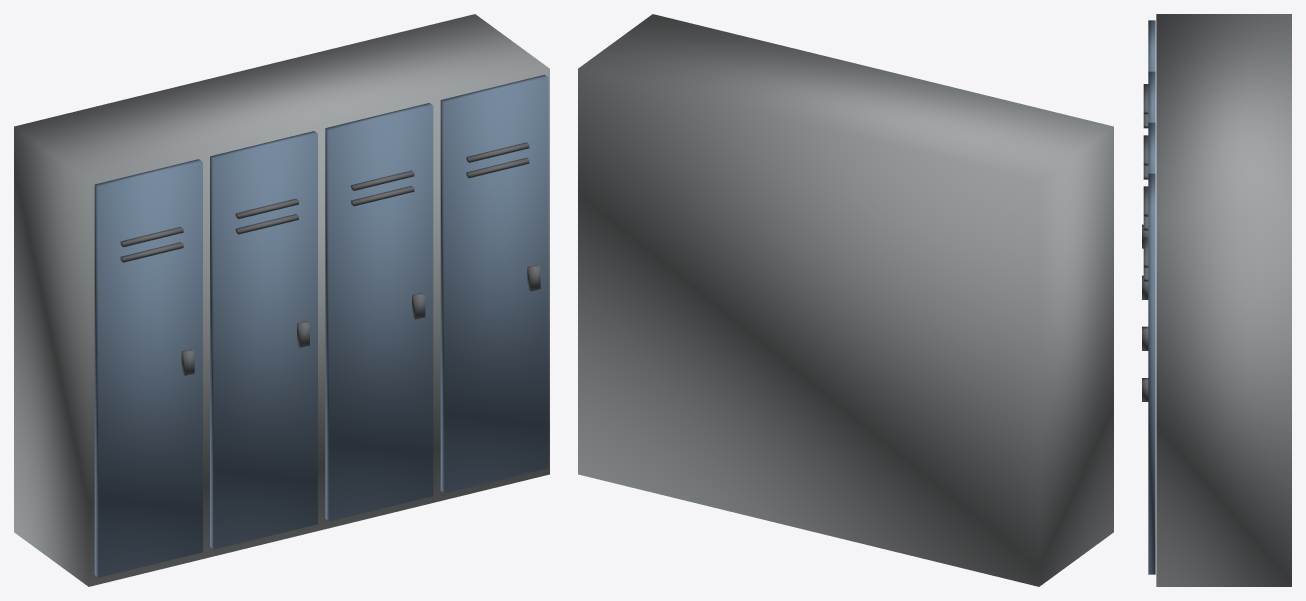
Rendered from evidence_locker__squat.glb.
The picture shows the model from 3 angles, left to right: view 1: azimuth 30°, elevation 25°; view 2: azimuth 150°, elevation 25°; view 3: azimuth 270°, elevation 25°; orthographic projection. The views are drawn at different scales.
Parts seen in each view (by area): view 1: world; view 2: world; view 3: world.
Part boxes in pixels (x1,y1,x2,y2): world: (14, 14, 549, 586); world: (578, 14, 1113, 586); world: (1142, 14, 1291, 586).
Bounding box in the file's own units: 1.85 × 1.55 × 0.5724.
